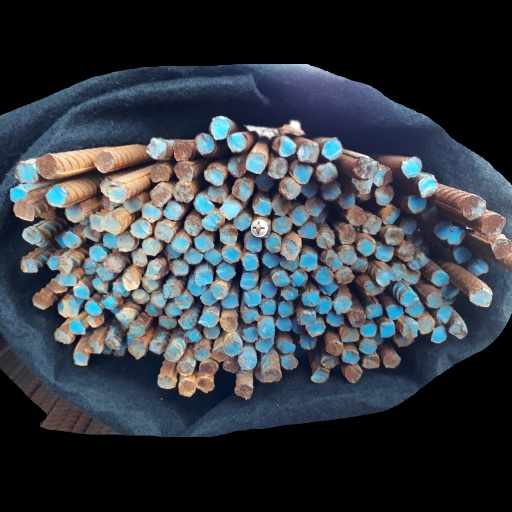dipstick: (461, 193, 486, 220), (353, 157, 379, 179), (481, 214, 506, 236), (320, 249, 343, 272), (36, 152, 57, 177), (321, 138, 343, 161), (145, 137, 168, 159), (470, 286, 492, 308), (297, 142, 319, 164), (14, 199, 36, 221), (172, 181, 195, 202), (15, 162, 38, 183), (401, 156, 422, 178), (279, 177, 300, 199), (209, 118, 230, 140), (150, 185, 172, 206), (231, 178, 251, 201), (219, 199, 242, 219), (194, 132, 214, 155), (275, 136, 296, 157), (279, 240, 300, 261), (226, 156, 247, 177), (194, 193, 215, 214), (162, 200, 183, 221), (94, 151, 115, 172), (290, 205, 310, 227), (153, 221, 173, 243), (106, 180, 126, 202), (129, 218, 151, 238), (418, 177, 438, 198), (316, 163, 337, 183), (304, 197, 325, 217), (174, 161, 194, 182), (150, 162, 171, 182), (99, 215, 120, 235), (45, 185, 65, 206), (206, 184, 228, 203), (173, 139, 192, 161), (407, 193, 427, 213), (272, 195, 292, 215), (242, 232, 262, 252), (380, 205, 401, 224), (204, 167, 225, 186), (184, 214, 203, 235), (188, 274, 207, 295), (63, 204, 84, 223), (57, 300, 79, 318), (492, 238, 511, 258), (347, 309, 367, 328), (332, 295, 352, 314), (346, 207, 366, 226), (267, 159, 286, 179), (271, 216, 291, 235), (246, 153, 265, 173), (194, 233, 214, 252), (467, 259, 488, 277), (201, 212, 222, 230), (374, 186, 393, 205), (337, 191, 356, 210), (254, 174, 273, 193), (227, 133, 246, 152), (144, 261, 163, 280), (142, 237, 161, 256), (115, 233, 134, 252), (22, 226, 41, 245), (433, 221, 453, 239), (448, 225, 466, 245), (373, 168, 393, 186), (361, 217, 381, 235), (338, 224, 356, 244), (314, 268, 334, 286), (122, 196, 142, 214), (72, 280, 90, 300), (352, 176, 373, 193), (103, 256, 124, 273), (453, 246, 472, 264), (399, 216, 417, 235), (402, 266, 421, 284), (375, 267, 393, 286), (252, 198, 271, 216), (252, 218, 270, 237), (241, 252, 259, 271), (200, 288, 219, 306), (178, 379, 197, 397), (448, 322, 468, 339), (408, 253, 428, 270), (216, 264, 236, 281), (219, 227, 239, 244), (183, 247, 203, 264), (131, 247, 148, 267), (88, 245, 108, 262), (356, 238, 374, 256), (345, 365, 363, 383), (299, 253, 317, 271), (239, 272, 257, 290), (63, 230, 81, 248), (384, 228, 403, 245), (375, 244, 394, 261), (385, 304, 404, 321), (325, 310, 344, 327), (321, 183, 340, 200), (297, 222, 316, 239), (315, 231, 334, 248), (270, 270, 289, 287), (232, 213, 251, 230), (219, 316, 238, 333), (221, 246, 240, 263), (203, 249, 222, 266), (171, 236, 190, 253), (398, 241, 414, 261), (334, 267, 354, 283), (305, 321, 325, 337), (296, 310, 316, 326), (280, 285, 300, 301), (194, 270, 214, 286), (198, 311, 218, 327), (122, 271, 138, 291), (363, 281, 385, 295), (400, 290, 418, 307), (417, 317, 434, 335), (178, 312, 196, 329), (163, 300, 181, 317), (150, 290, 167, 308), (128, 342, 146, 359), (390, 262, 406, 281), (340, 327, 359, 343), (338, 248, 357, 264), (313, 298, 332, 314), (261, 252, 280, 268), (222, 340, 241, 356), (199, 359, 218, 375), (158, 314, 177, 330), (9, 186, 28, 202), (115, 308, 135, 323), (393, 333, 414, 347), (435, 305, 452, 322), (275, 315, 292, 332), (277, 300, 294, 317), (244, 290, 261, 307), (241, 326, 258, 343), (209, 282, 226, 299), (141, 275, 158, 292), (55, 328, 72, 345), (92, 276, 109, 293), (56, 257, 73, 274), (364, 304, 382, 320), (321, 353, 339, 369), (280, 354, 298, 370), (265, 234, 281, 252), (238, 355, 256, 371), (174, 294, 192, 310), (164, 243, 182, 259), (131, 288, 149, 304), (95, 264, 113, 280), (82, 225, 100, 241), (431, 271, 450, 286), (405, 302, 424, 317), (341, 350, 360, 365), (196, 378, 215, 393), (318, 281, 338, 295), (401, 321, 417, 338), (378, 321, 395, 337), (300, 182, 317, 198), (260, 281, 276, 298), (164, 346, 181, 362), (102, 233, 118, 250), (80, 258, 97, 274), (425, 292, 443, 307), (383, 354, 401, 369), (289, 272, 307, 287), (299, 334, 317, 349), (263, 367, 281, 382), (234, 384, 252, 399), (221, 294, 239, 309), (170, 260, 188, 275), (163, 283, 181, 298), (71, 351, 89, 366), (86, 313, 104, 328), (32, 294, 50, 309), (310, 369, 329, 383), (276, 340, 295, 354), (255, 338, 274, 352), (183, 329, 202, 343), (351, 257, 368, 272), (326, 341, 343, 356), (257, 323, 274, 338), (145, 301, 162, 316), (129, 322, 146, 337), (361, 355, 379, 369), (359, 340, 377, 354), (212, 347, 230, 361), (68, 320, 86, 334), (100, 294, 118, 308), (89, 213, 103, 231), (19, 259, 37, 273), (440, 285, 459, 298), (260, 299, 276, 314), (149, 339, 165, 354), (46, 255, 61, 271), (302, 292, 319, 306), (292, 318, 306, 335), (241, 309, 258, 323), (176, 361, 193, 375), (104, 335, 121, 349), (85, 301, 102, 315), (50, 279, 67, 293), (280, 257, 298, 270), (58, 273, 76, 286), (100, 176, 111, 197), (431, 328, 447, 342), (360, 323, 376, 337), (222, 359, 238, 373), (86, 341, 103, 354), (193, 348, 211, 360), (157, 376, 175, 388), (203, 327, 220, 339), (255, 362, 265, 382), (311, 211, 326, 223), (357, 189, 373, 200), (55, 233, 67, 247), (372, 332, 383, 344), (36, 241, 49, 247)
